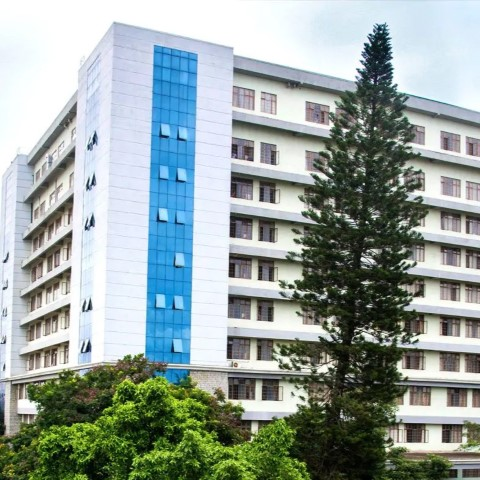Central Block: (2, 16, 480, 480)
